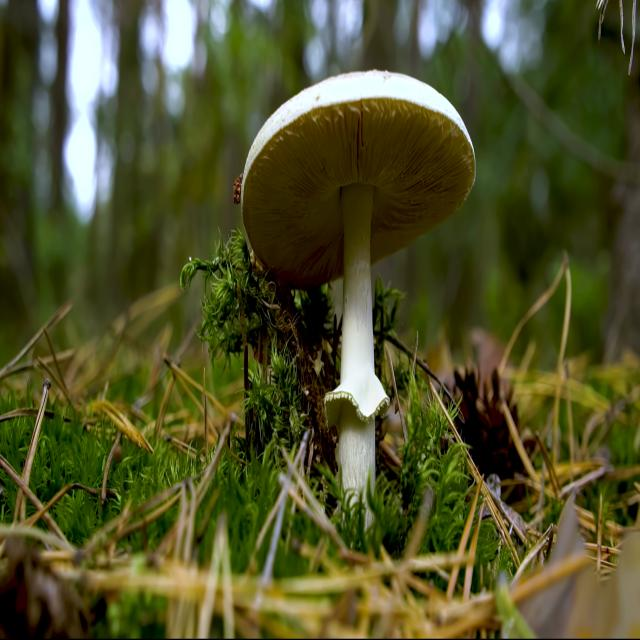death-cap: (240, 70, 476, 495)
